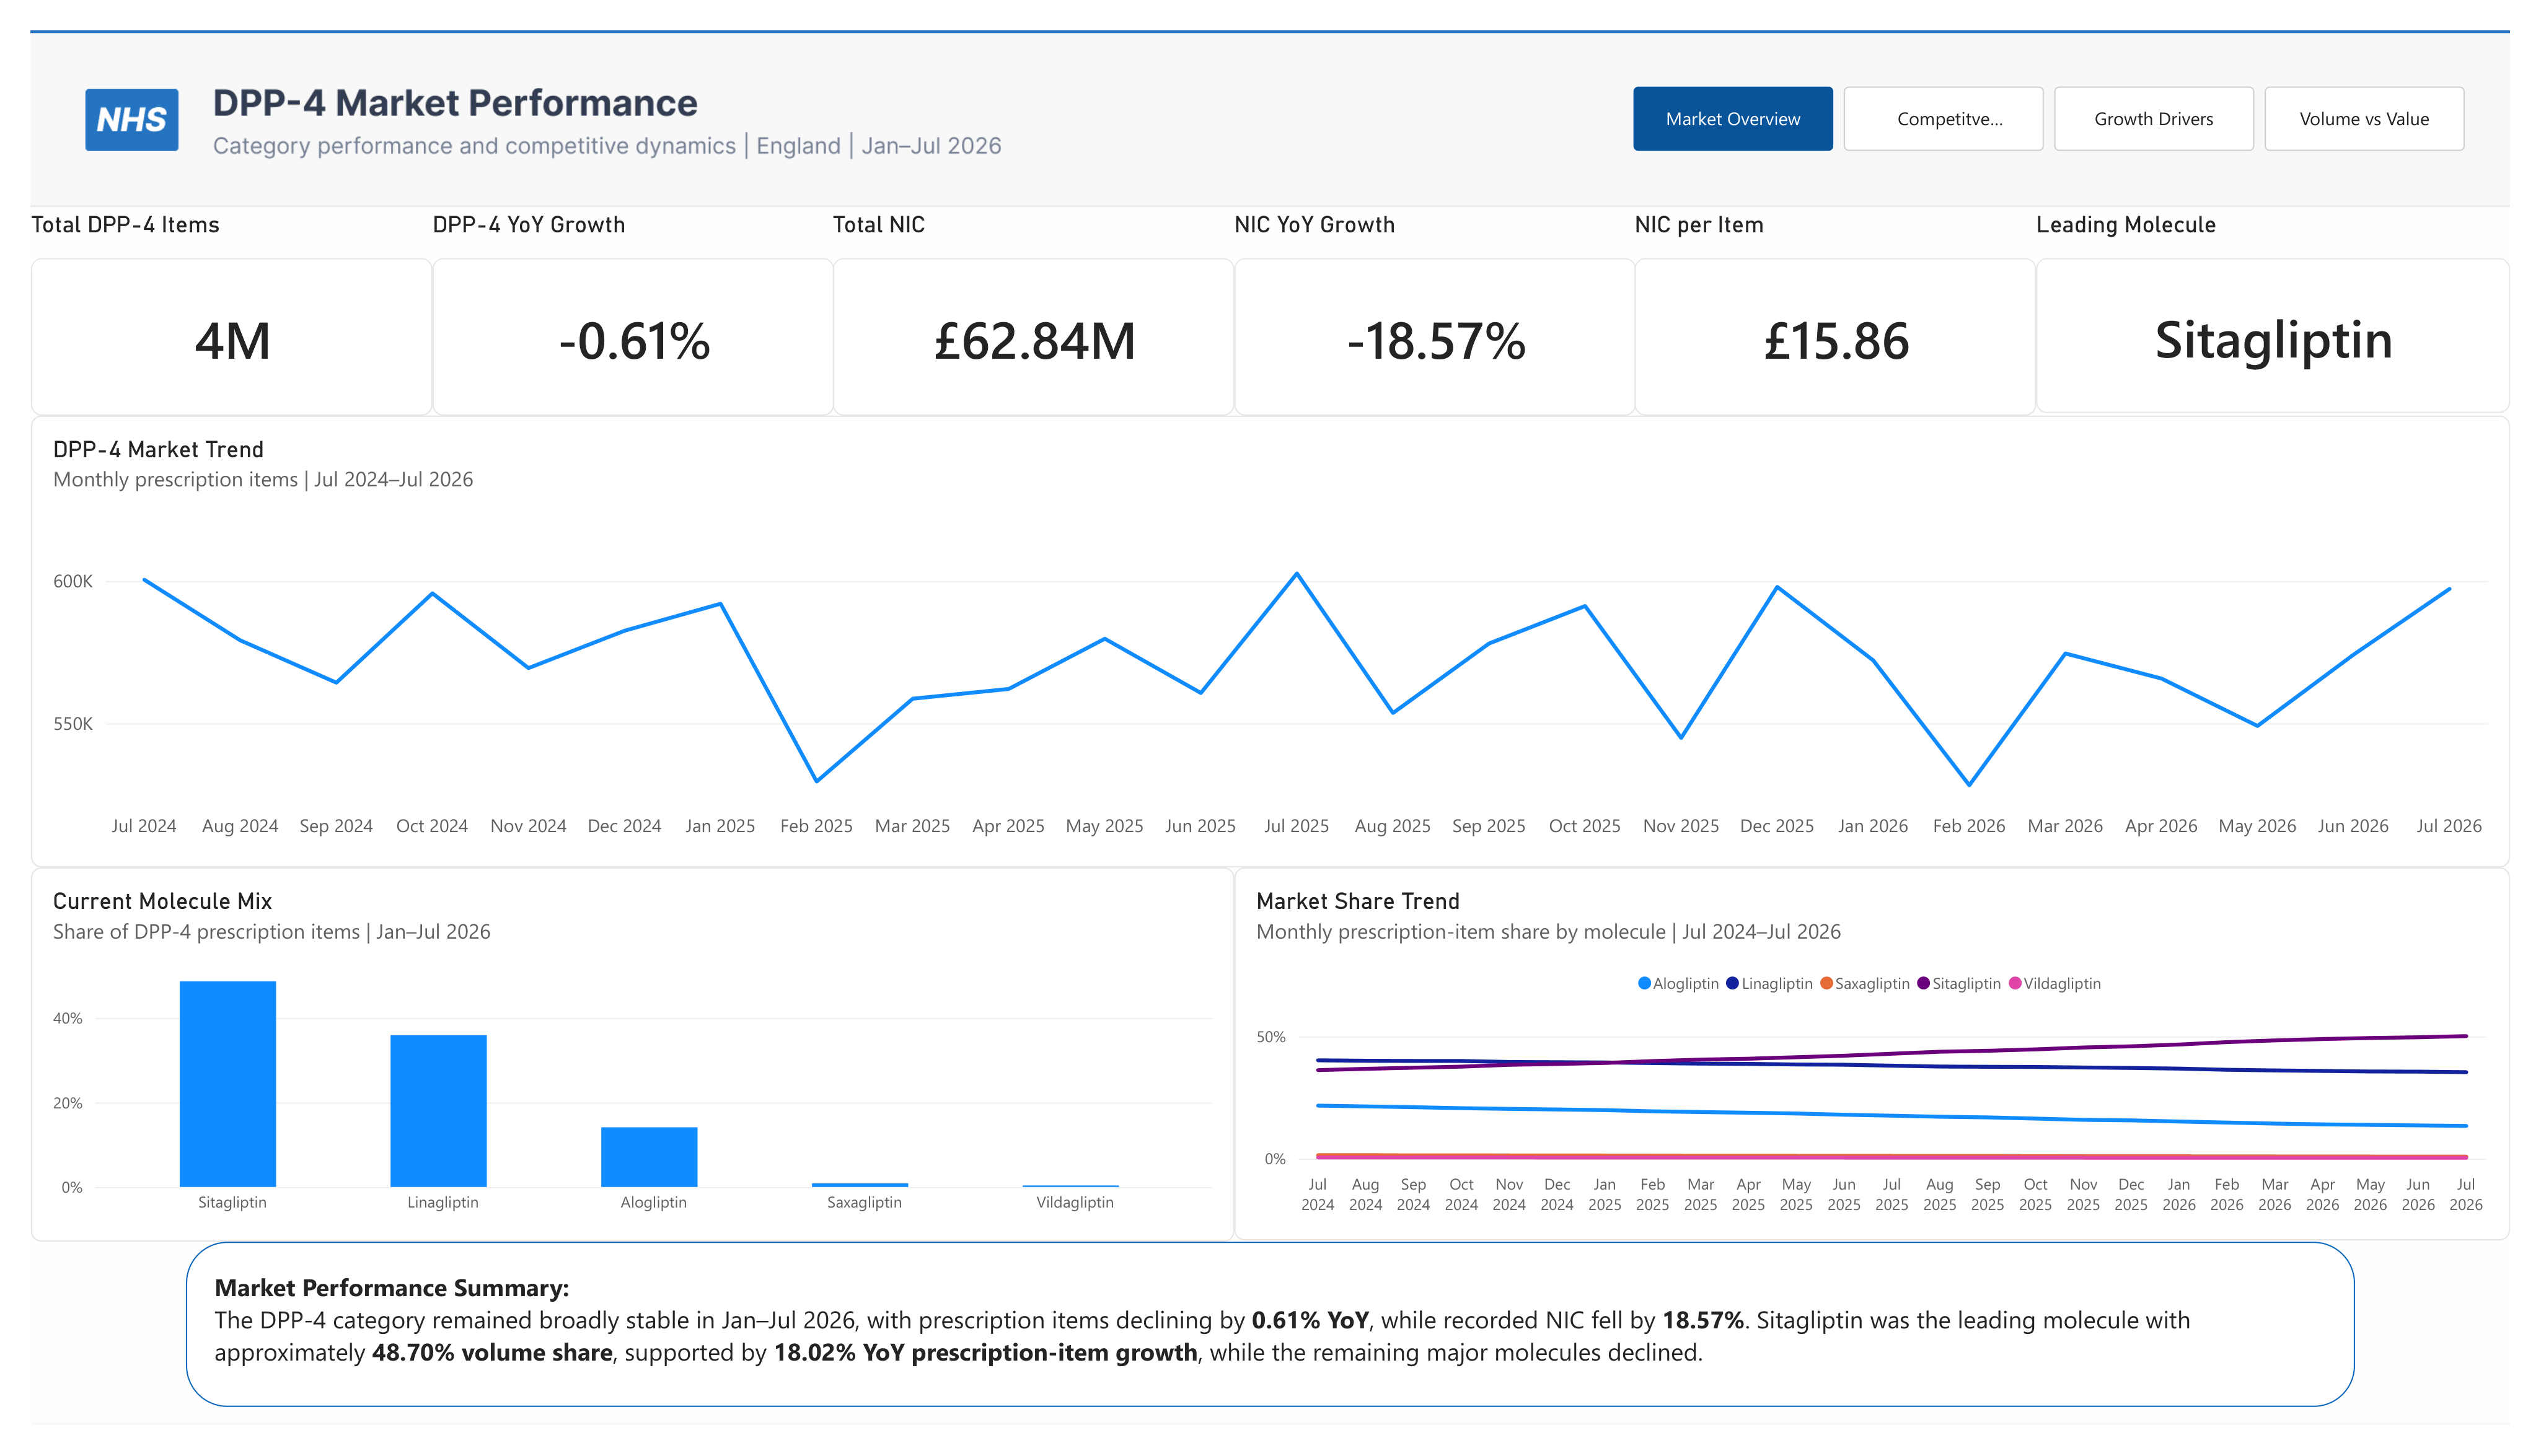

This screenshot's page, from the dashboard's own definition file:
{"tool":"powerbi","page":{"name":"Market Overview","canvas":[1920,1080],"ordinal":0},"visuals":[{"type":"cardVisual","title":"Total DPP-4 Items","fields":{"Data":["Measure Table.DPP4 Market Items"]},"box":[0,139,311.3,159],"z":0},{"type":"shape","box":[120,938,1680,128],"z":0,"group":"g1"},{"type":"cardVisual","title":"DPP-4 YoY Growth","fields":{"Data":["Measure Table.DPP4 Market YoY Growth"]},"box":[310.6,138.7,311.3,159],"z":1000},{"type":"textbox","box":[142,960,1592,86],"z":1000,"group":"g1"},{"type":"cardVisual","title":"Total NIC","fields":{"Data":["Measure Table.NIC"]},"box":[621.1,138.7,311.3,159],"z":2000},{"type":"cardVisual","title":"NIC YoY Growth","fields":{"Data":["Measure Table.NIC YoY Growth"]},"box":[931.7,138.7,311.3,159],"z":3000},{"type":"cardVisual","title":"NIC per Item","fields":{"Data":["Measure Table.NIC per Item"]},"box":[1242.2,138.7,311.3,159],"z":4000},{"type":"cardVisual","title":"Leading Molecule","fields":{"Data":["Measure Table.Leading Molecule"]},"box":[1552.7,139.3,367.4,157.4],"z":5000},{"type":"lineChart","title":"DPP-4 Market Trend","fields":{"Category":["Dim_Calendar.MonthYear"],"Y":["Measure Table.Total Items"]},"box":[0,298,1920,350],"z":6000},{"type":"clusteredColumnChart","title":"Current Molecule Mix","fields":{"Category":["Dim_Chemical.Molecule"],"Y":["Measure Table.Volume Share"]},"box":[0,648.5,931.7,289.1],"z":7000},{"type":"lineChart","title":"Market Share Trend","fields":{"Category":["Dim_Calendar.MonthYear"],"Series":["Dim_Chemical.Molecule"],"Y":["Measure Table.Volume Share"]},"box":[932,647.9,988.1,289.5],"z":8000},{"type":"group","id":"g1","title":"Group 1","box":[120,938,1680,128],"z":9000},{"type":"pageNavigator","box":[1241.4,43.4,646,50.7],"z":10000}]}

Visuals, with their boxes on the page's 1920x1080 design canvas (x1, y1, x2, y2). These are canvas units, not pixel positions in the 2541x1456 screenshot, which may show the page scaled, cropped or inside an application window:
"Total DPP-4 Items" cardVisual: region(0, 139, 311, 298)
shape: region(120, 938, 1800, 1066)
"DPP-4 YoY Growth" cardVisual: region(311, 139, 622, 298)
textbox: region(142, 960, 1734, 1046)
"Total NIC" cardVisual: region(621, 139, 932, 298)
"NIC YoY Growth" cardVisual: region(932, 139, 1243, 298)
"NIC per Item" cardVisual: region(1242, 139, 1554, 298)
"Leading Molecule" cardVisual: region(1553, 139, 1920, 297)
"DPP-4 Market Trend" lineChart: region(0, 298, 1920, 648)
"Current Molecule Mix" clusteredColumnChart: region(0, 648, 932, 938)
"Market Share Trend" lineChart: region(932, 648, 1920, 937)
"Group 1" group: region(120, 938, 1800, 1066)
pageNavigator: region(1241, 43, 1887, 94)
